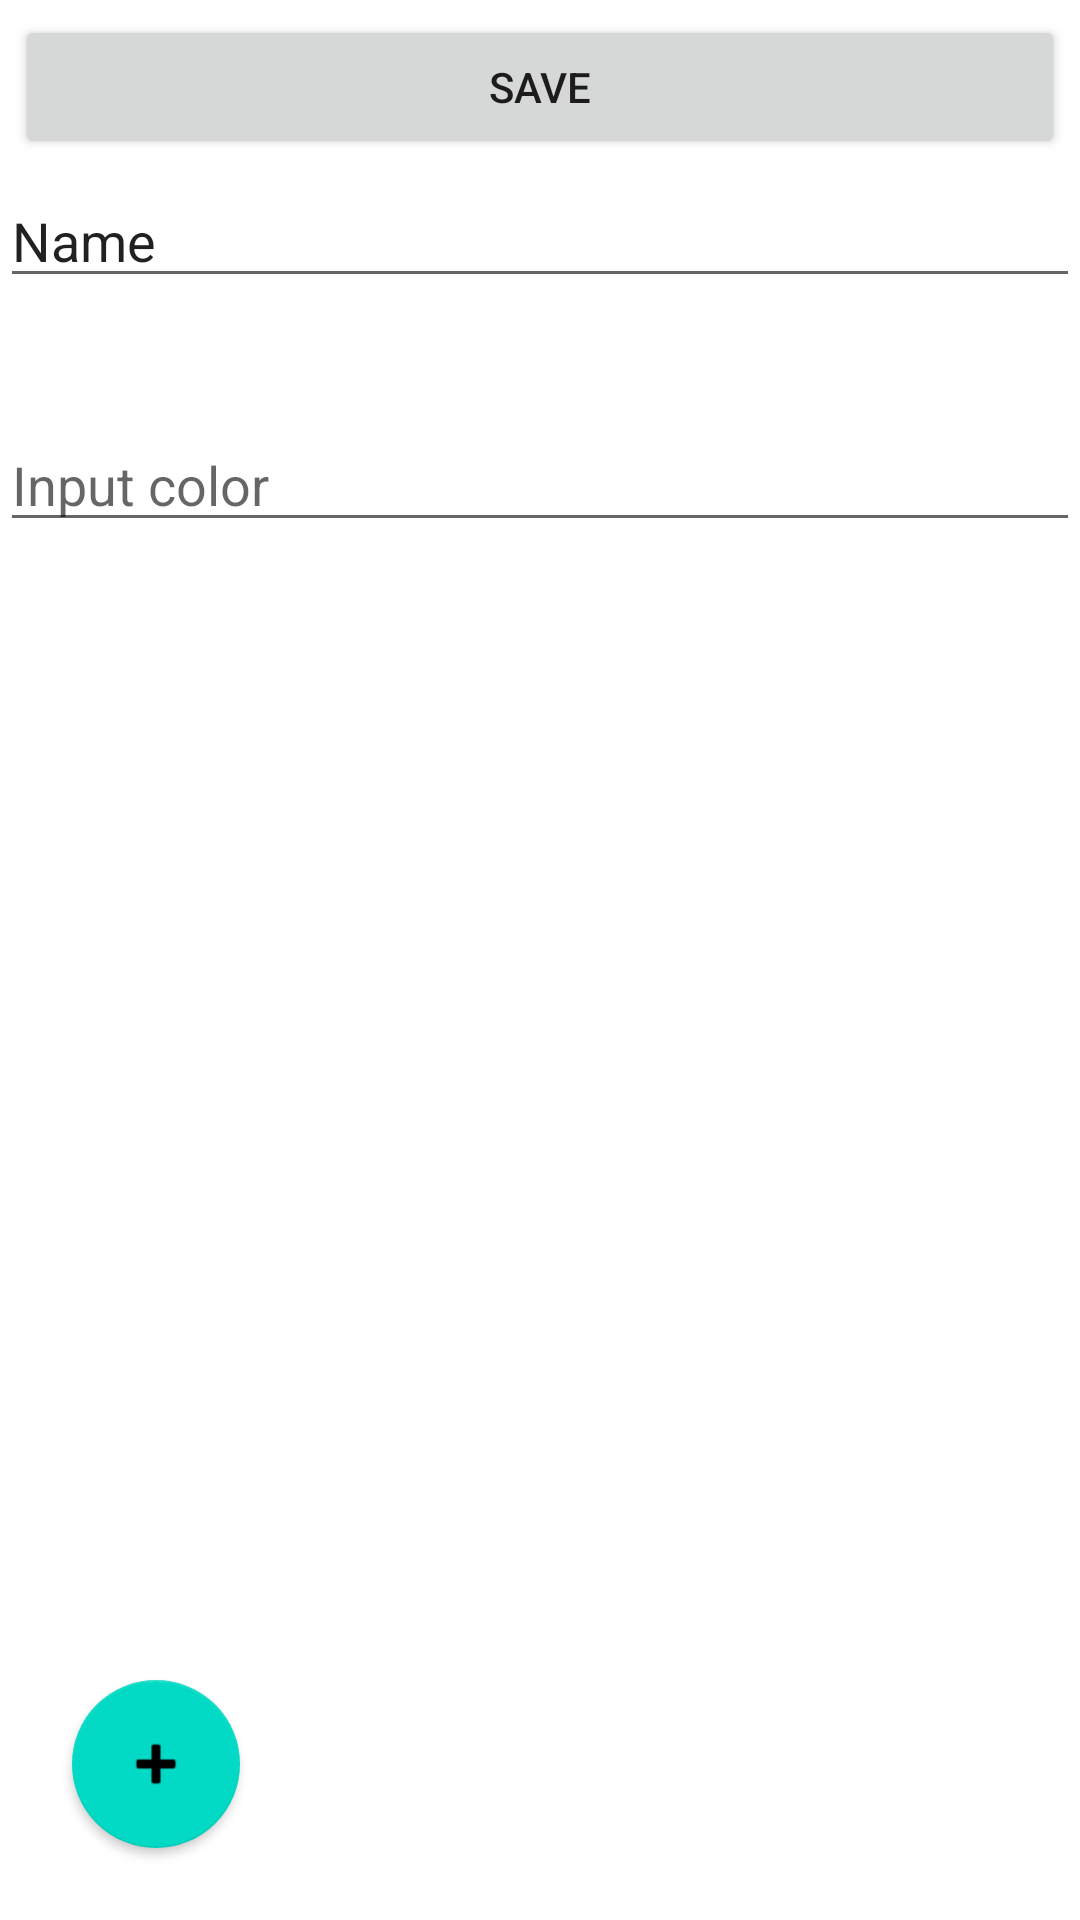

Icon click points for this 1080px×1920px phone screenshot, format (x=x, y=y):
add: (x=156, y=1764)
